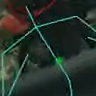hacks_2: (1, 5, 96, 96)
